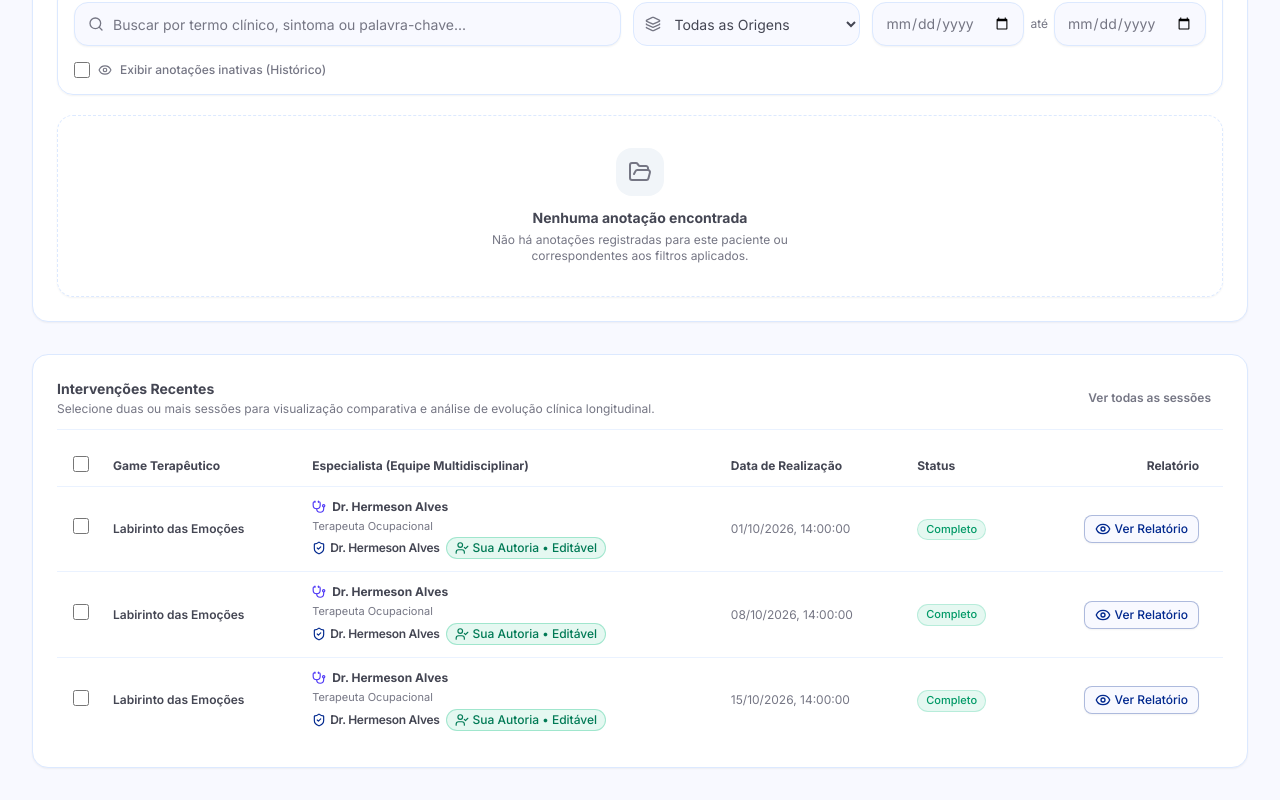
Test: Página: PerfilPacientePage (Prontuário e Equipe Especialista) › deve permitir selecionar mais de duas sessões para comparação e abrir o modal multi-sessões escalável
(page scrolled)
Click the checkbox named "selecionar" in the row of "01/10/2026, 14:00:00".
click(81, 526)  # box top-left (73, 518), bottom-right (89, 534)
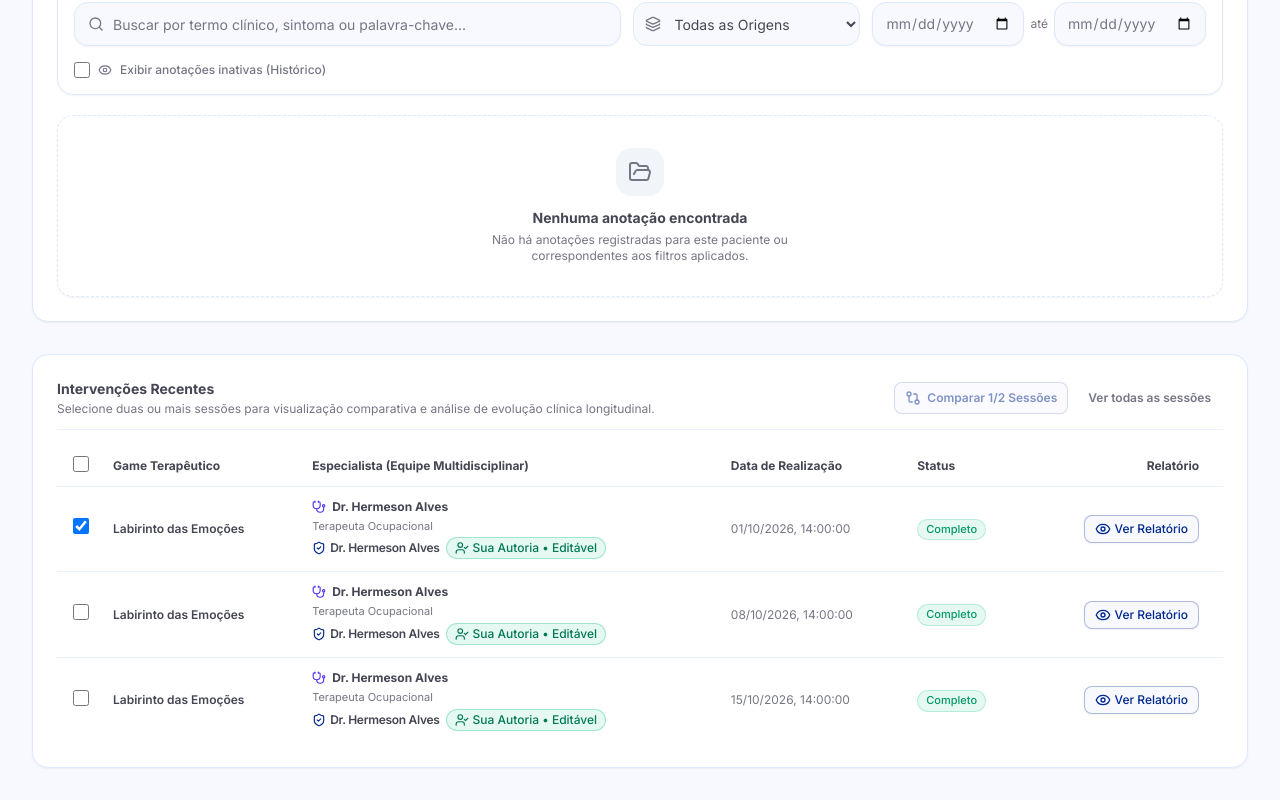
Expected: the button with test id "btn-comparar-sessoes" reads "Comparar 1/2 Sessões", top-left (894, 382), bottom-right (1068, 414)
Expected: the button with test id "btn-comparar-sessoes" is disabled, top-left (894, 382), bottom-right (1068, 414)
Click the checkbox named "selecionar" in the row of "08/10/2026, 14:00:00".
click(81, 612)  # box top-left (73, 604), bottom-right (89, 620)
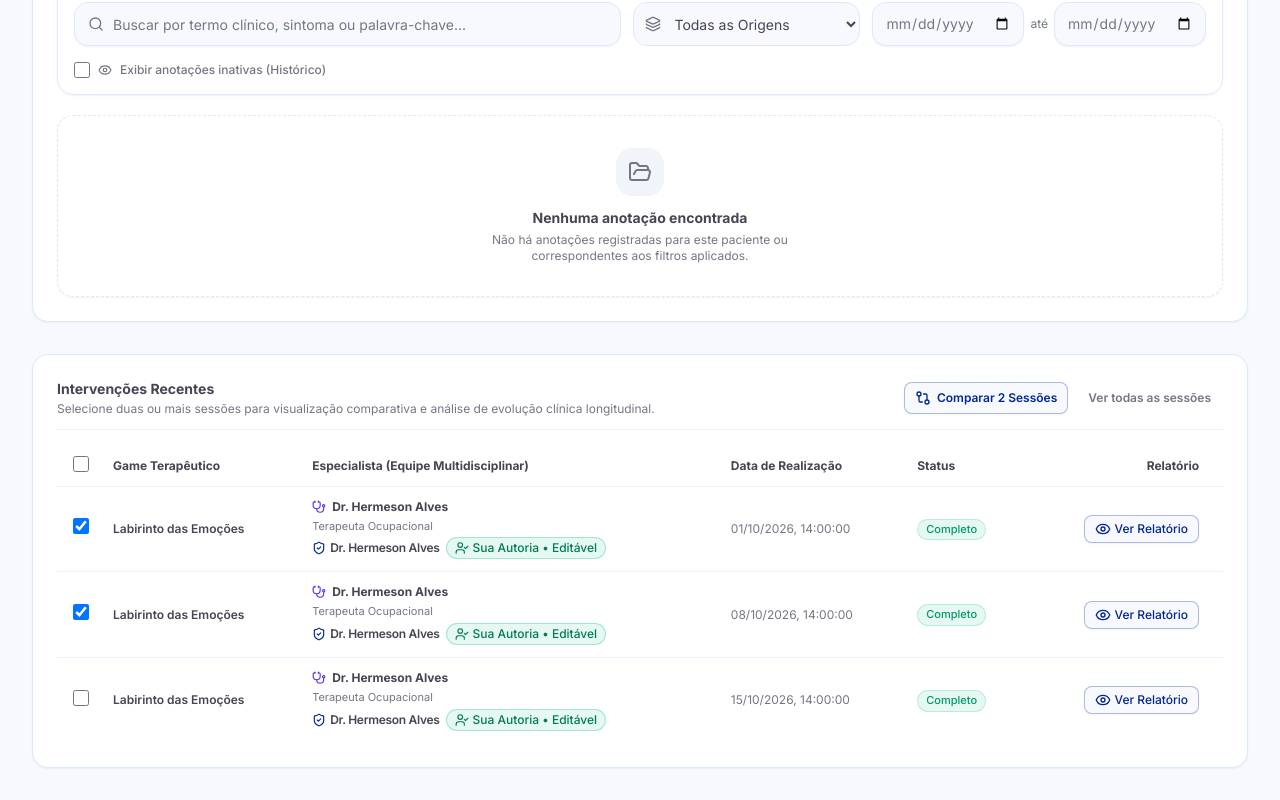
Expected: the button with test id "btn-comparar-sessoes" reads "Comparar 2 Sessões", top-left (904, 382), bottom-right (1068, 414)
Expected: the button with test id "btn-comparar-sessoes" is enabled, top-left (904, 382), bottom-right (1068, 414)
Click the checkbox named "selecionar" in the row of "15/10/2026, 14:00:00".
click(81, 698)  # box top-left (73, 690), bottom-right (89, 706)
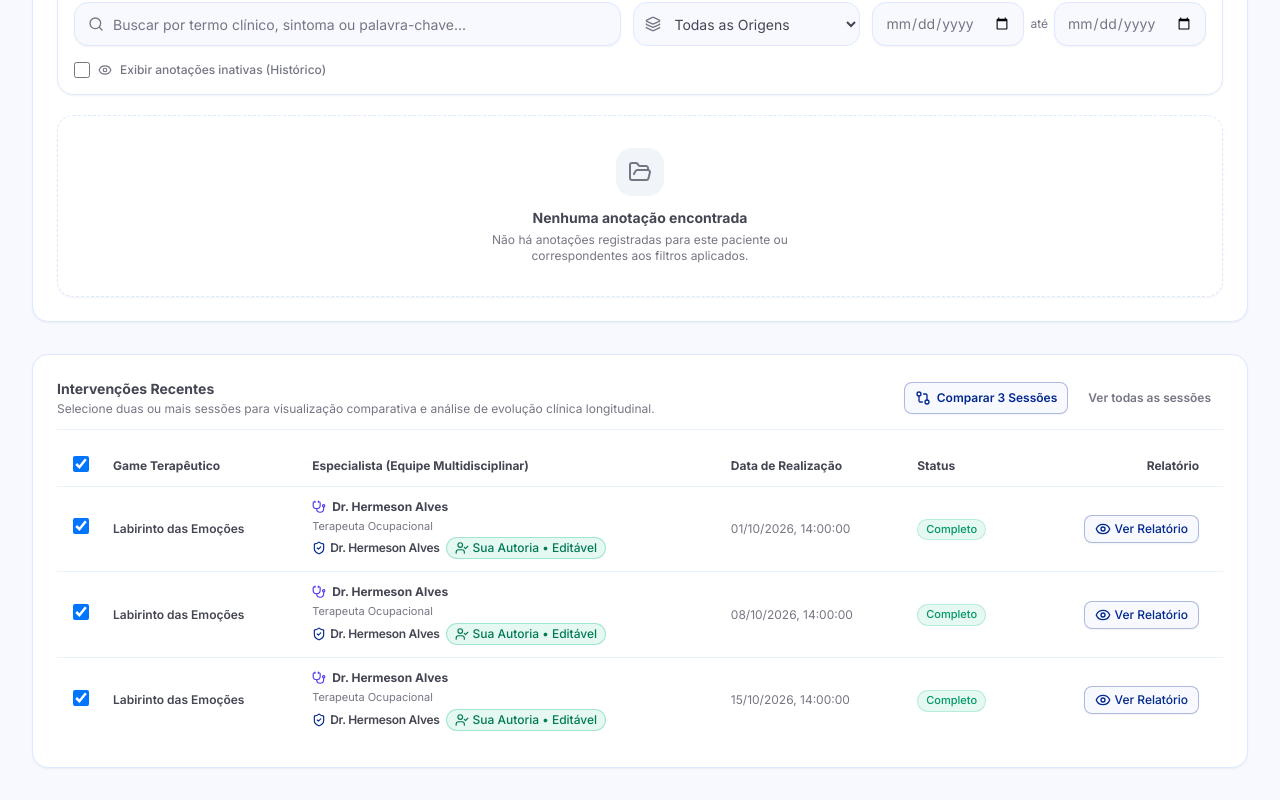
Expected: the button with test id "btn-comparar-sessoes" is enabled
Expected: the button with test id "btn-comparar-sessoes" reads "Comparar 3 Sessões"
Note: Ao clicar, abre o modal de múltiplas sessões
Click the button with test id "btn-comparar-sessoes".
click(986, 398)  # box top-left (904, 382), bottom-right (1068, 414)
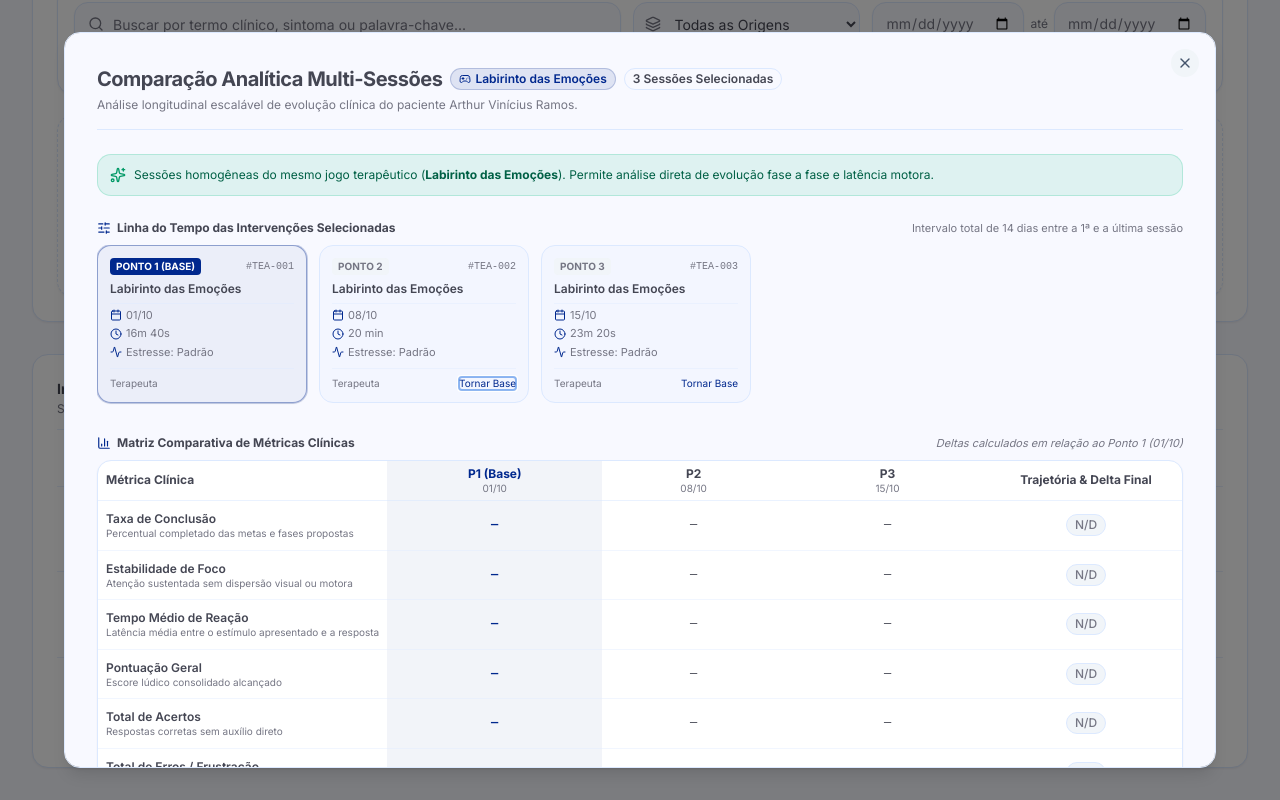
Expected: the dialog with test id "modal-comparar-multiplas-sessoes" is shown
Expected: the heading "Comparação Analítica Multi-Sessões" is shown, top-left (97, 65), bottom-right (442, 93)
